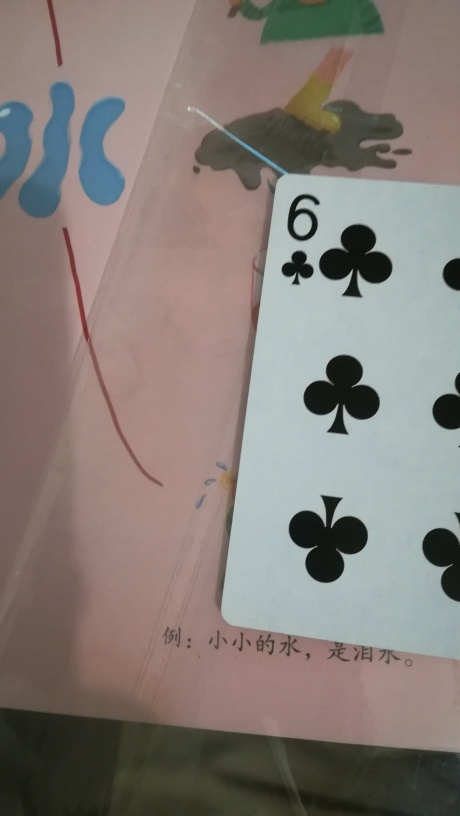mh 6: (220, 168, 460, 656)
